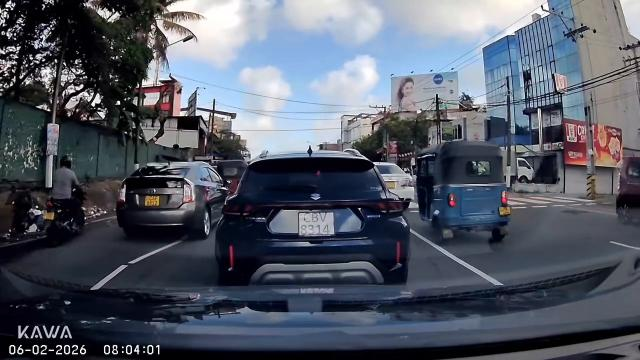illegal overtaking: (407, 137, 523, 252)
number plate: (297, 209, 346, 241), (145, 195, 164, 209), (496, 207, 515, 218)
